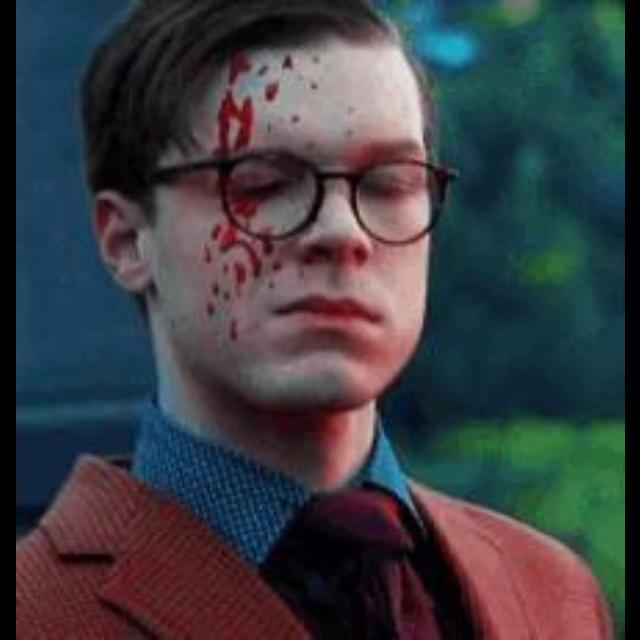blood: (196, 158, 311, 357), (206, 50, 336, 172)
